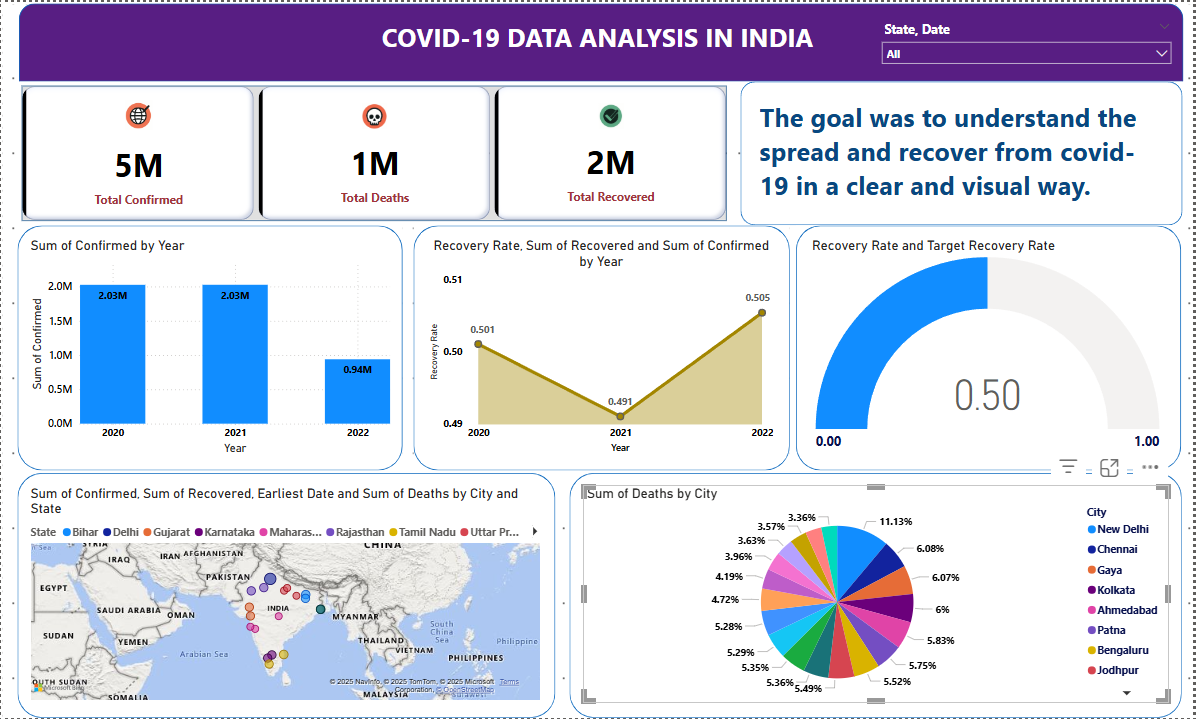

The dashboard page shown, as its layout file describes it:
{"tool":"powerbi","page":{"name":"Page 1","canvas":[1500,900],"ordinal":0},"visuals":[{"type":"shape","box":[931,100.5,555.9,180.8],"z":0},{"type":"shape","box":[22.3,2.2,1464.6,98.2],"z":1000},{"type":"shape","box":[714.4,591.6,770.2,308.1],"z":2000},{"type":"shape","box":[20.1,591.6,676.5,308.1],"z":3000},{"type":"shape","box":[1000.2,281.3,484.5,308.1],"z":4000},{"type":"shape","box":[518,281.3,473.3,308.1],"z":5000},{"type":"shape","box":[20.1,281.3,484.5,308.1],"z":6000},{"type":"cardVisual","fields":{"Data":["Covid_data.Total Confirmed","Covid_data.Total Deaths","Covid_data.Total Recovered"]},"box":[20.1,100.5,897.5,180.8],"z":7000},{"type":"columnChart","fields":{"Category":["Covid_data.Date.Variation.Date Hierarchy.Year","Covid_data.Date.Variation.Date Hierarchy.Quarter","Covid_data.Date.Variation.Date Hierarchy.Month","Covid_data.Date.Variation.Date Hierarchy.Day"],"Y":["Sum(Covid_data.Confirmed)"]},"box":[31.3,296.9,462.1,276.8],"z":8000},{"type":"lineChart","fields":{"Category":["Covid_data.Date.Variation.Date Hierarchy.Year","Covid_data.Date.Variation.Date Hierarchy.Quarter","Covid_data.Date.Variation.Date Hierarchy.Month","Covid_data.Date.Variation.Date Hierarchy.Day"],"Y":["Covid_data.Recovery Rate"]},"box":[533.6,296.9,442,276.8],"z":9000},{"type":"pieChart","fields":{"Category":["Covid_data.City"],"Y":["Sum(Covid_data.Deaths)"]},"box":[732.3,607.3,736.7,274.6],"z":10000},{"type":"map","fields":{"Category":["Covid_data.City"],"Size":["Sum(Covid_data.Confirmed)"],"Series":["Covid_data.State"]},"box":[31.3,607.3,649.7,274.6],"z":11000},{"type":"gauge","fields":{"Y":["Covid_data.Recovery Rate"],"TargetValue":["Covid_data.Target Recovery Rate"]},"box":[1015.8,296.9,451,276.8],"z":12000},{"type":"slicer","fields":{"Values":["Covid_data.State","Covid_data.Date"]},"box":[1098.4,17.9,384,67],"z":13000},{"type":"textbox","box":[444.3,17.9,614,67],"z":14000},{"type":"textbox","box":[948.8,116.1,518,147.3],"z":15000}]}

Visuals, with their boxes in screenshot pixels (x1, y1, x2, y2), scaled from the page's 1500x900 canvas onto the 1196x719 screenshot:
shape: x1=742, y1=80, x2=1186, y2=225
shape: x1=18, y1=2, x2=1186, y2=80
shape: x1=570, y1=473, x2=1184, y2=718
shape: x1=16, y1=473, x2=555, y2=718
shape: x1=797, y1=225, x2=1184, y2=471
shape: x1=413, y1=225, x2=790, y2=471
shape: x1=16, y1=225, x2=402, y2=471
cardVisual - Covid_data.Total Confirmed x Covid_data.Total Deaths: x1=16, y1=80, x2=732, y2=225
columnChart - Covid_data.Date.Variation.Date Hierarchy.Year x Covid_data.Date.Variation.Date Hierarchy.Quarter: x1=25, y1=237, x2=393, y2=458
lineChart - Covid_data.Date.Variation.Date Hierarchy.Year x Covid_data.Date.Variation.Date Hierarchy.Quarter: x1=425, y1=237, x2=778, y2=458
pieChart - Covid_data.City x Sum(Covid_data.Deaths): x1=584, y1=485, x2=1171, y2=705
map - Covid_data.City x Sum(Covid_data.Confirmed): x1=25, y1=485, x2=543, y2=705
gauge - Covid_data.Recovery Rate x Covid_data.Target Recovery Rate: x1=810, y1=237, x2=1170, y2=458
slicer - Covid_data.State x Covid_data.Date: x1=876, y1=14, x2=1182, y2=68
textbox: x1=354, y1=14, x2=844, y2=68
textbox: x1=757, y1=93, x2=1170, y2=210
